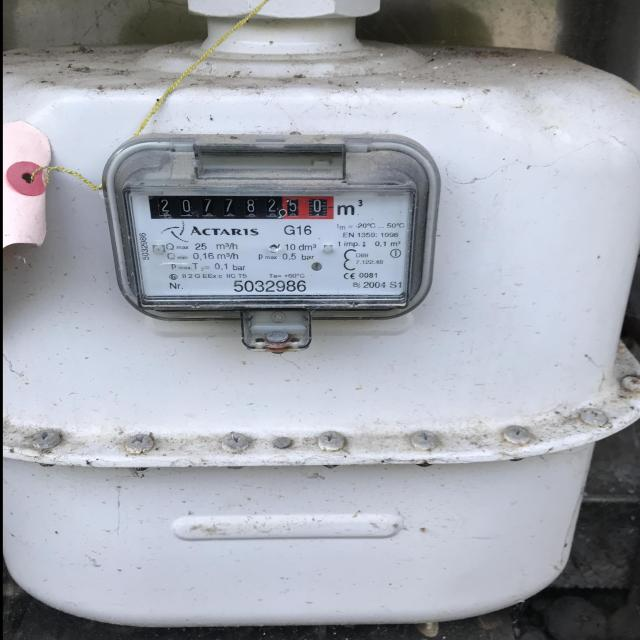gaz_meter: (120, 185, 415, 303)
indication: (145, 191, 336, 220)
